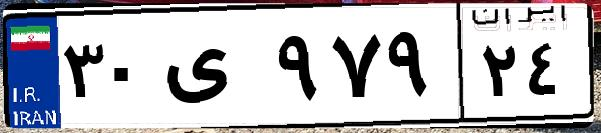0: (110, 28, 158, 98)
2: (475, 38, 525, 113)
3: (57, 26, 110, 100)
4: (525, 38, 570, 115)
7: (330, 28, 385, 110)
9: (270, 28, 330, 110), (385, 28, 445, 110)
ی: (158, 20, 270, 120)
